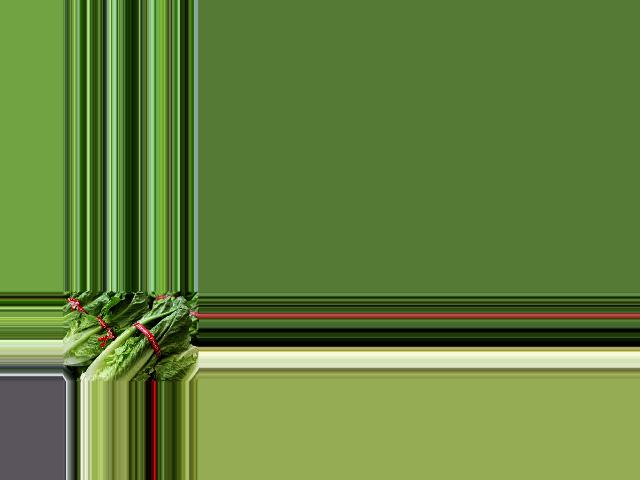lettuce: (81, 295, 192, 382)
